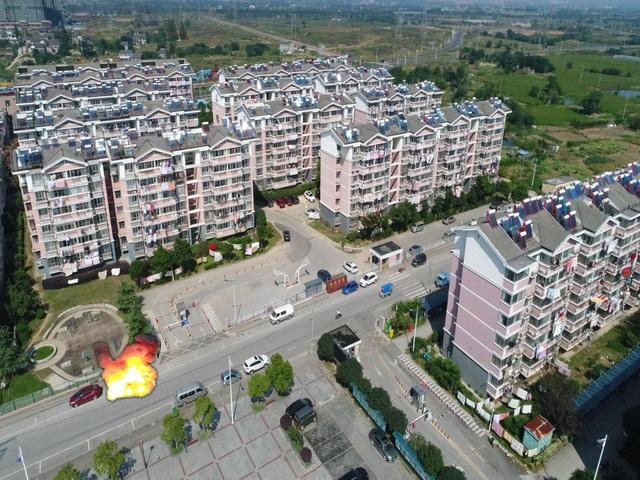fire: (92, 334, 159, 400)
